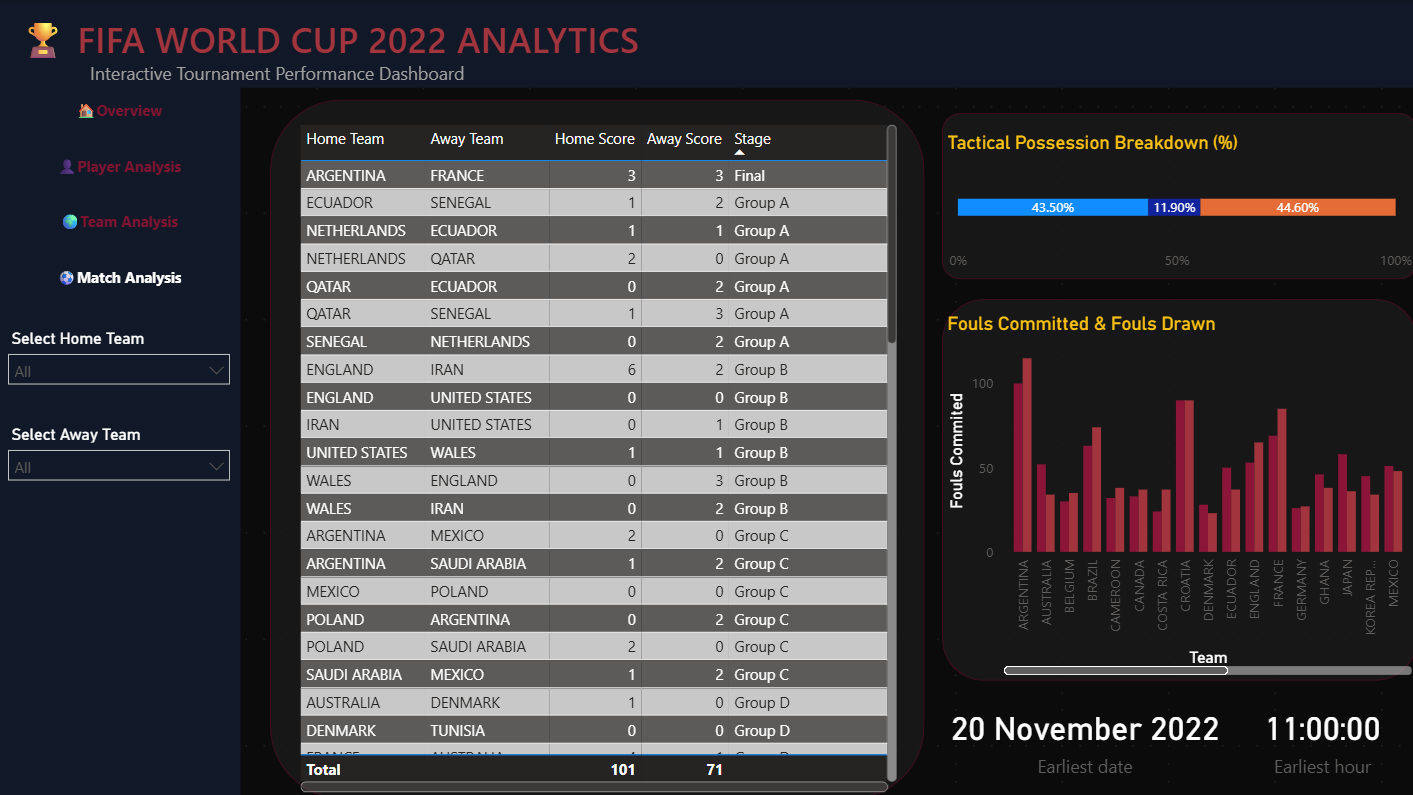

The page's visual inventory and layout, read from the dashboard file:
{"tool":"powerbi","page":{"name":"⚽Match Analysis","canvas":[1280,720],"ordinal":3},"visuals":[{"type":"shape","box":[851.4,270,428.6,344.3],"z":0},{"type":"shape","box":[851.4,102.9,428.6,150],"z":1000},{"type":"shape","box":[0,0,219.4,819.8],"z":2000},{"type":"shape","box":[0,0,1600,80],"z":3000},{"type":"textbox","box":[0,10,1590,50],"z":4000},{"type":"textbox","box":[0,50,1380,40],"z":5000},{"type":"shape","box":[245.7,90,590,630],"z":6000},{"type":"tableEx","fields":{"Values":["Matches.Home Team","Matches.Away Team","Sum(Matches.Home Goals)","Sum(Matches.Away Goals)","Matches.Stage"]},"box":[267.1,108.6,548.6,611.4],"z":7000},{"type":"pageNavigator","box":[0,80,220,190],"z":8000},{"type":"slicer","fields":{"Values":["Matches.Home Team"]},"box":[0,292,220,86],"z":10000},{"type":"slicer","fields":{"Values":["Matches.Away Team"]},"box":[0,378,220,80],"z":11000},{"type":"hundredPercentStackedBarChart","title":"Tactical Possession Breakdown (%)","fields":{"Y":["Avg(Matches.Away Possession)","Avg(Matches.possession in contest)","Avg(Matches.Home Possession)"]},"box":[851.4,118.6,428.6,134.3],"z":12000},{"type":"clusteredColumnChart","title":"Fouls Committed & Fouls Drawn","fields":{"Y":["Sum(Players.fouls_commited)","Sum(Players.fouls_drawn)"],"Category":["Matches.Home Team","Matches.Away Team"]},"box":[851.4,282.9,428.6,331.4],"z":13000},{"type":"card","fields":{"Values":["Min(Matches.date)"]},"box":[851.4,614.3,257.1,105.7],"z":14000},{"type":"card","fields":{"Values":["Min(Matches.hour)"]},"box":[1108.6,614.3,171.4,105.7],"z":15000}]}

Visuals, with their boxes on the page's 1280x720 design canvas (x1, y1, x2, y2). These are canvas units, not pixel positions in the 1413x795 screenshot, which may show the page scaled, cropped or inside an application window:
shape: [851, 270, 1280, 614]
shape: [851, 103, 1280, 253]
shape: [0, 0, 219, 820]
shape: [0, 0, 1600, 80]
textbox: [0, 10, 1590, 60]
textbox: [0, 50, 1380, 90]
shape: [246, 90, 836, 720]
tableEx - Matches.Home Team x Matches.Away Team: [267, 109, 816, 720]
pageNavigator: [0, 80, 220, 270]
slicer - Matches.Home Team: [0, 292, 220, 378]
slicer - Matches.Away Team: [0, 378, 220, 458]
"Tactical Possession Breakdown (%)" hundredPercentStackedBarChart: [851, 119, 1280, 253]
"Fouls Committed & Fouls Drawn" clusteredColumnChart: [851, 283, 1280, 614]
card - Min(Matches.date): [851, 614, 1108, 720]
card - Min(Matches.hour): [1109, 614, 1280, 720]
